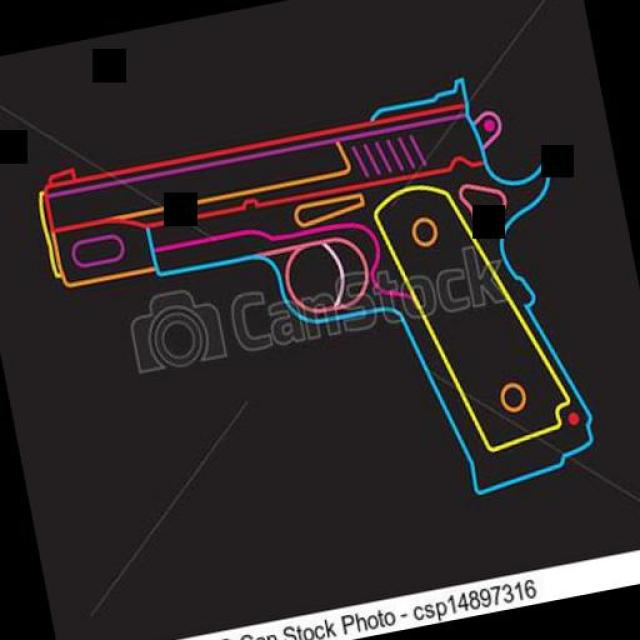gun: (26, 62, 606, 566)
